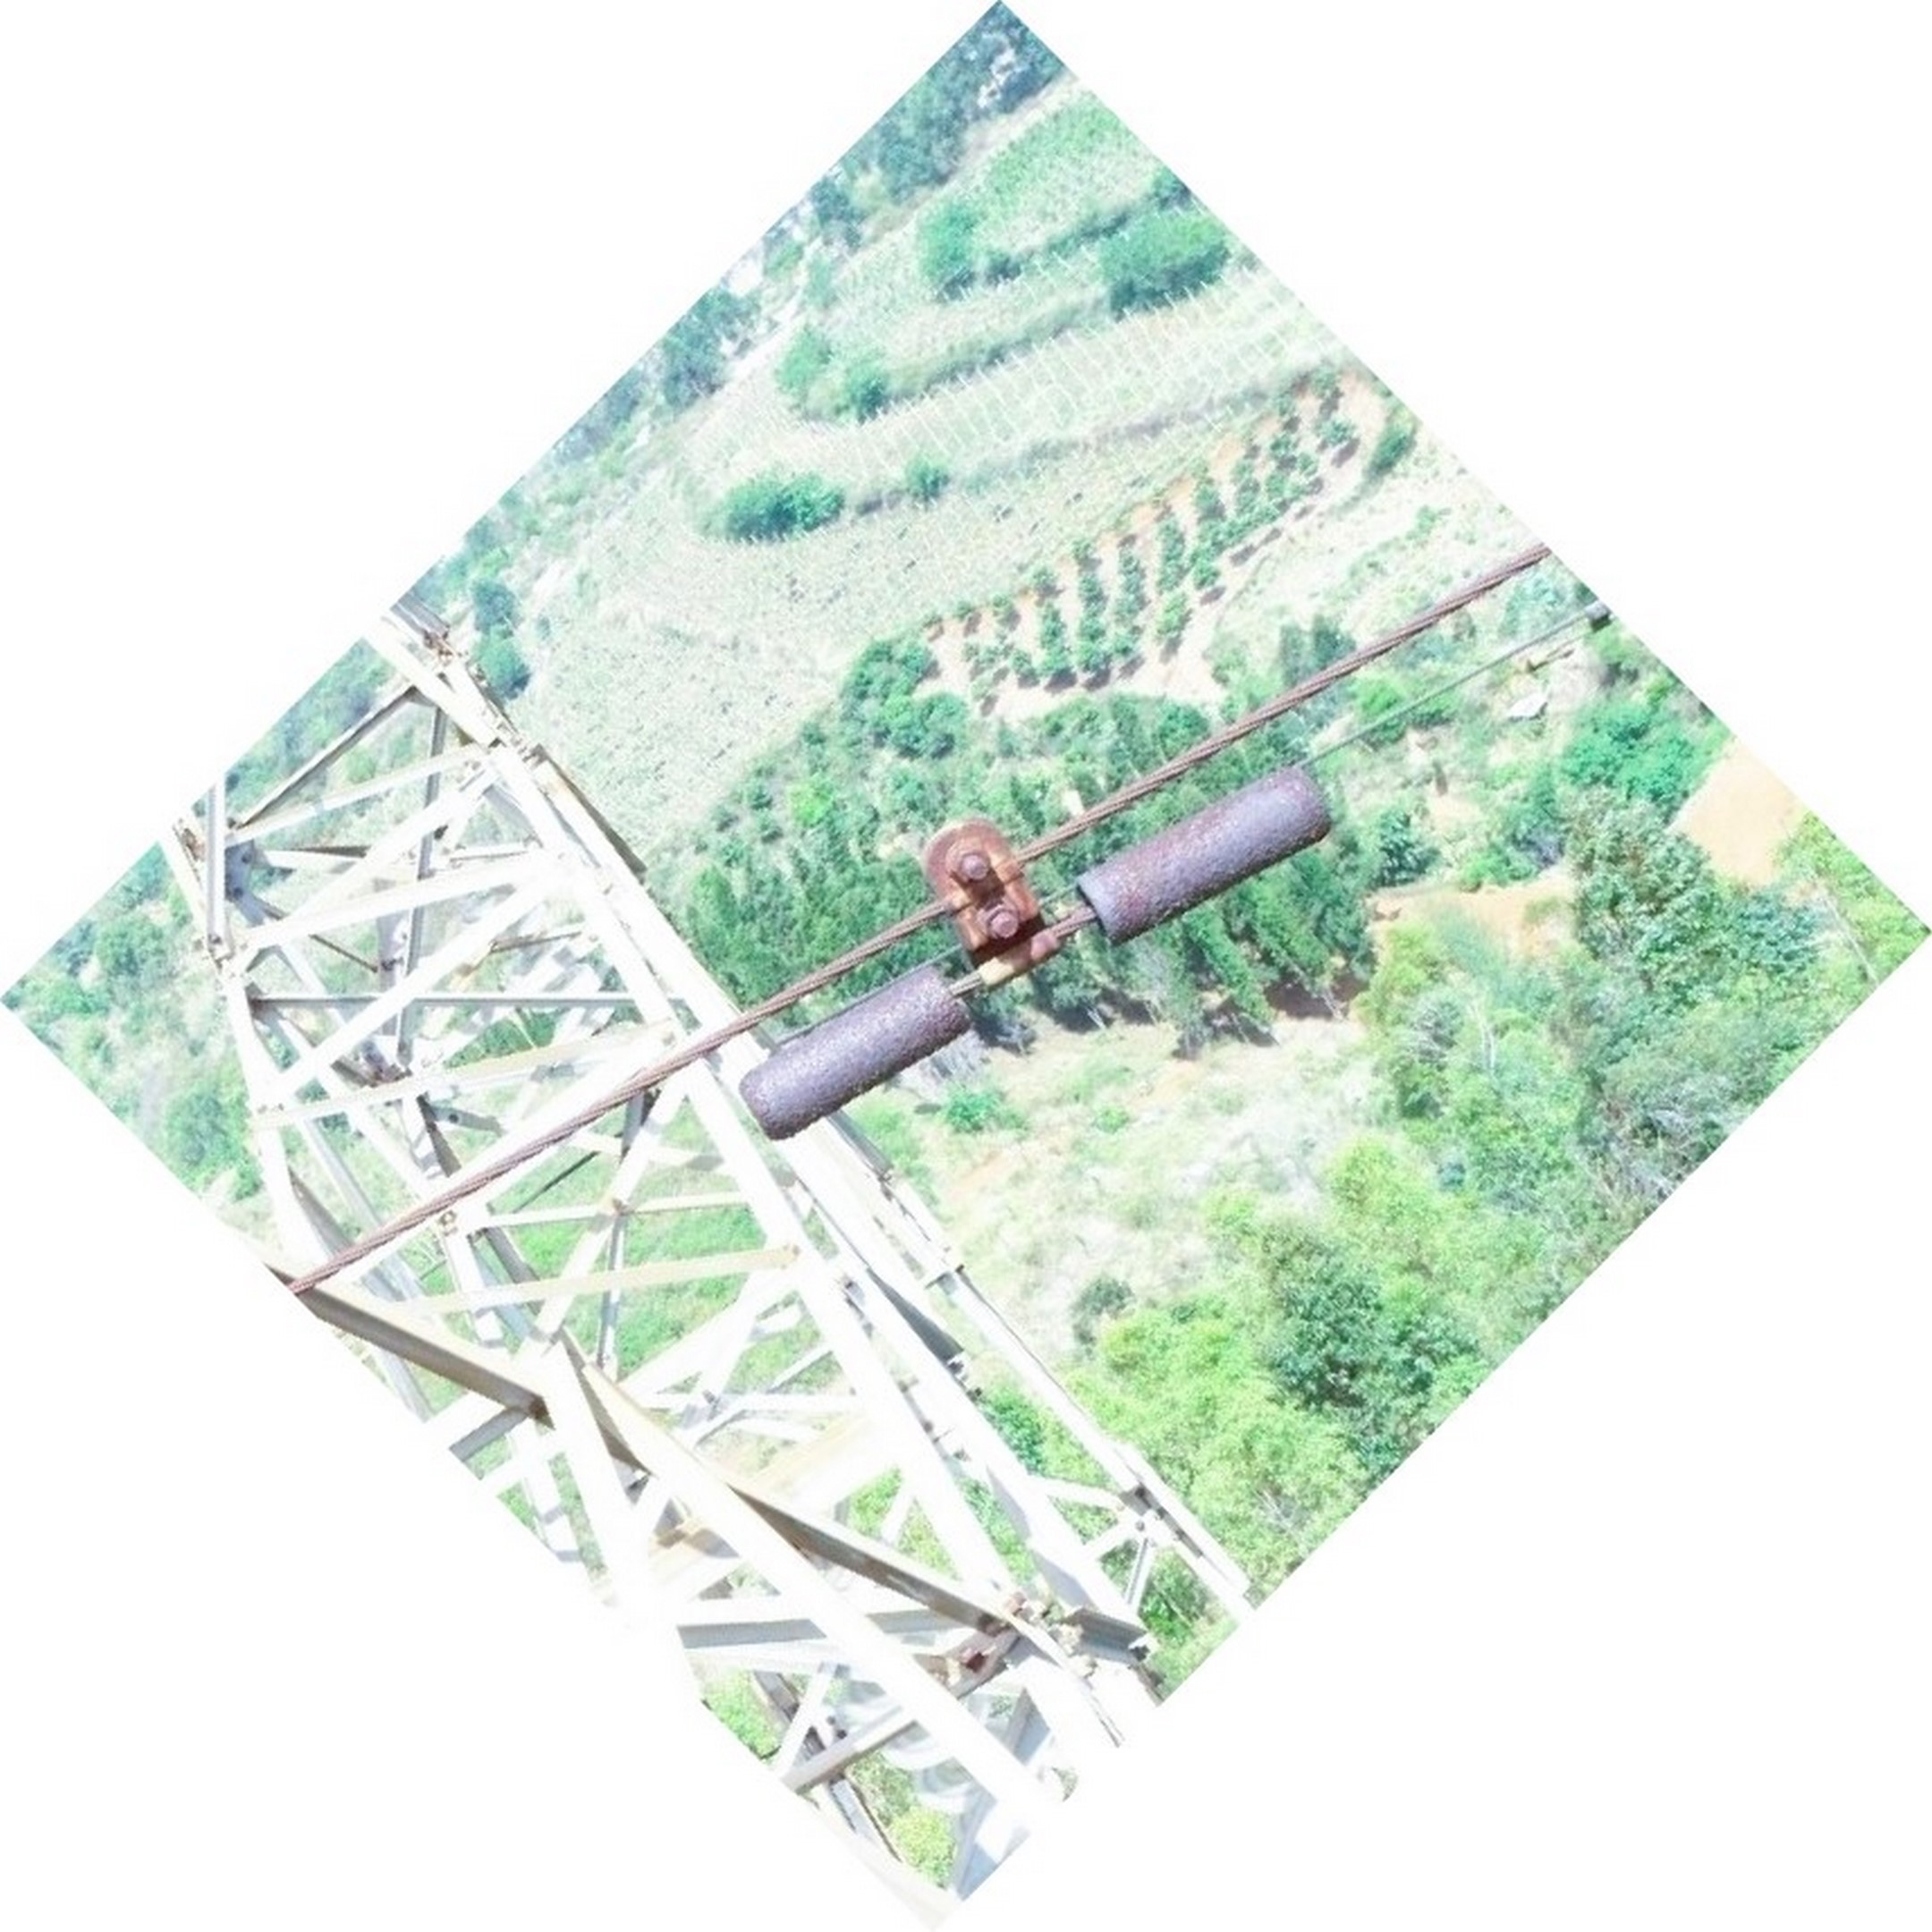Shockproof hammer: (701, 738, 1353, 1154)
